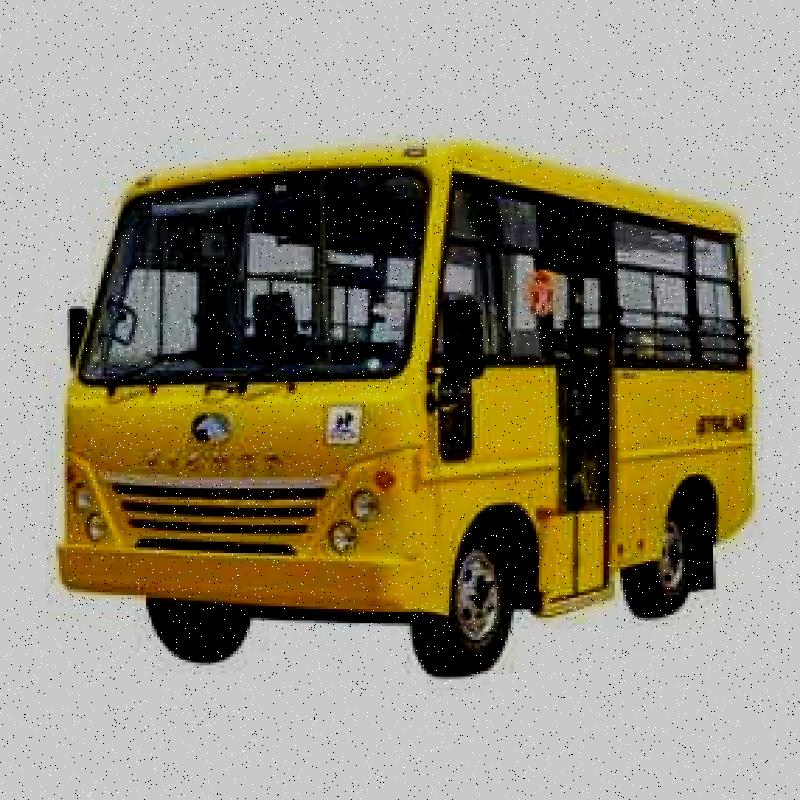bus: (39, 121, 757, 680)
